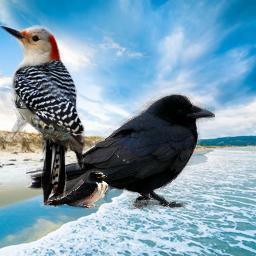Crow: (26, 93, 215, 209)
Swallow: (45, 171, 109, 209)
Woodpecker: (0, 25, 85, 207)
